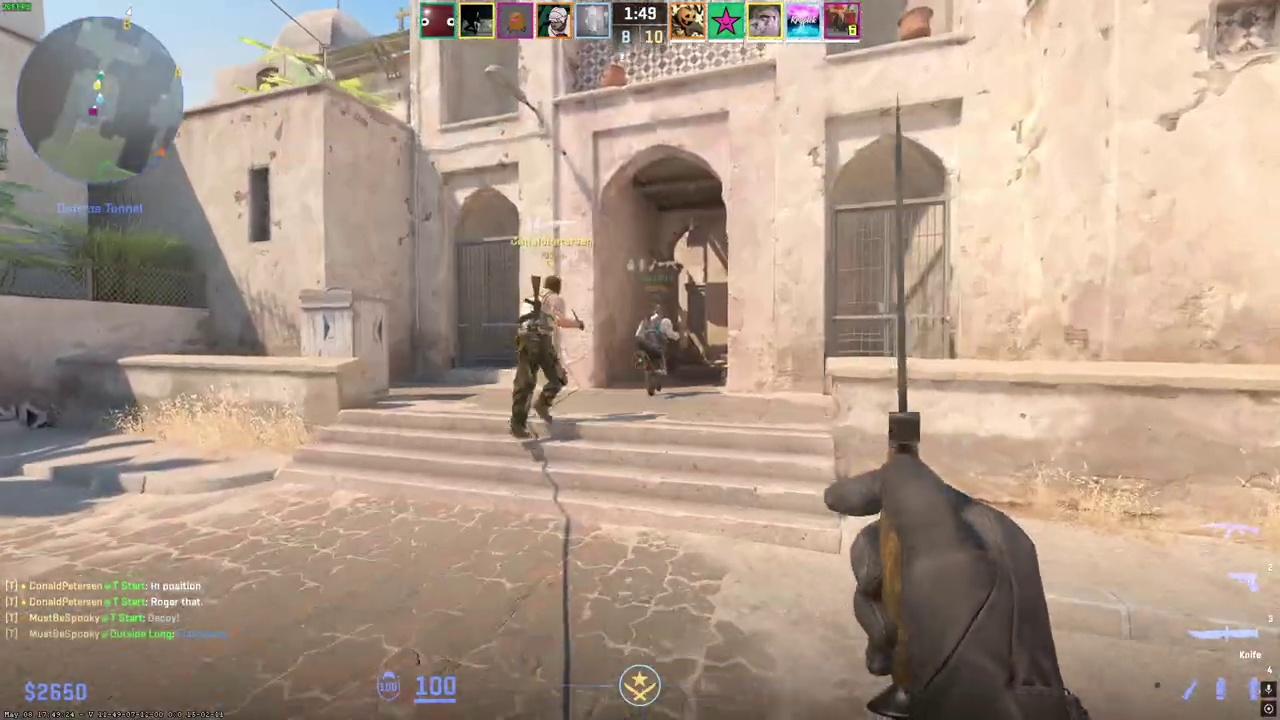Terrorist: (510, 276, 576, 439), (635, 305, 678, 396)
